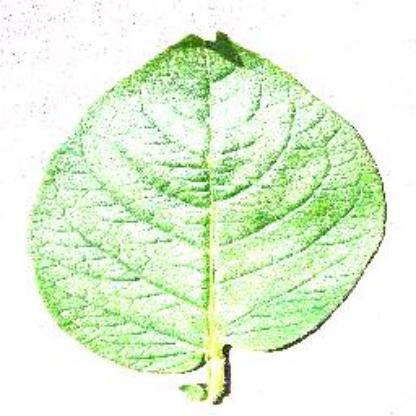Healthy-plant: (36, 29, 404, 405)
